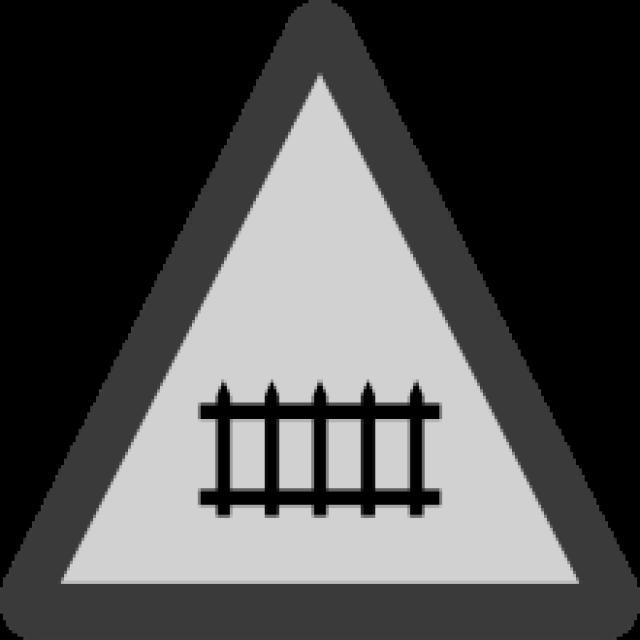guarded level crossing: (29, 29, 599, 611)
